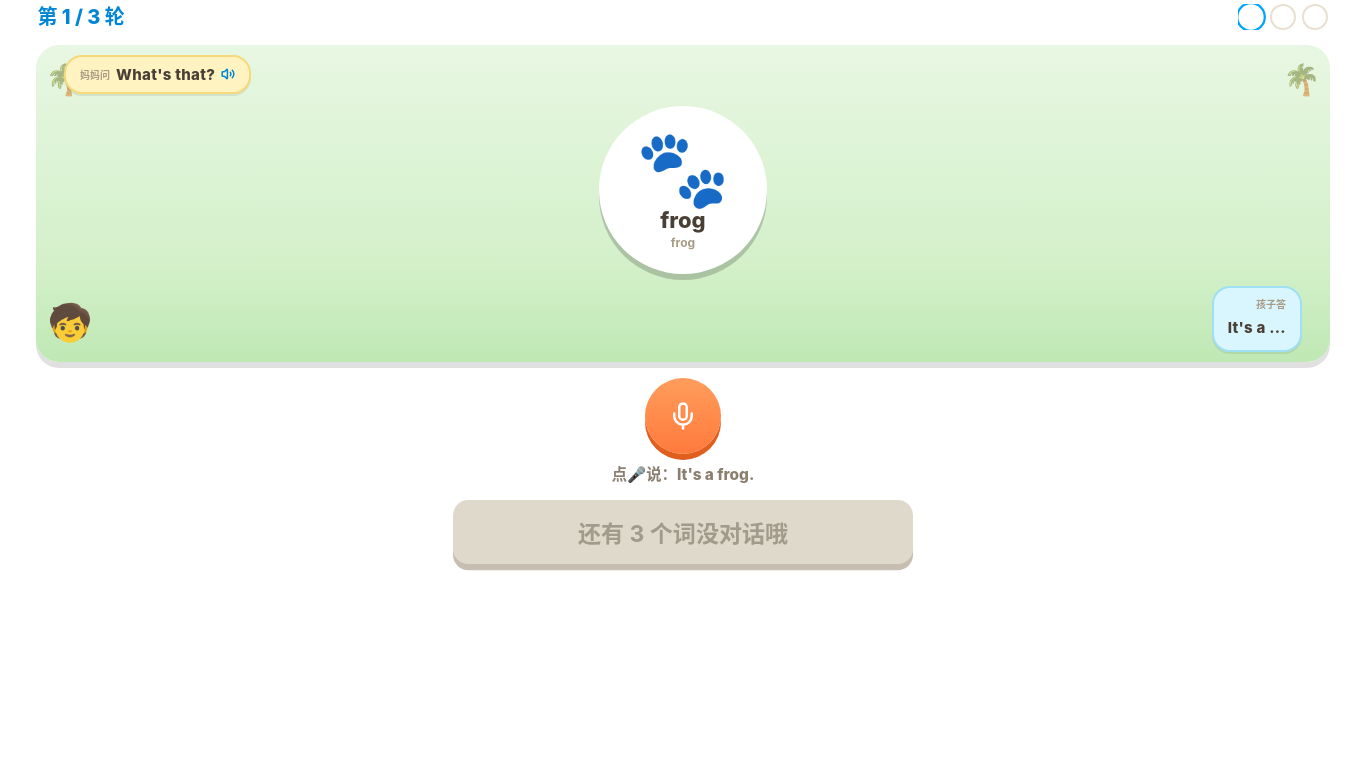
Scenario: LearnStage dialog 亲子口语对话卡（l10）· 逐轮对话 + 录音 › 家长判定「再试一次」→ 回录音按钮，轮次不变
Click the button with class "mic-btn".
click(683, 416)  # box [645,378,721,454]
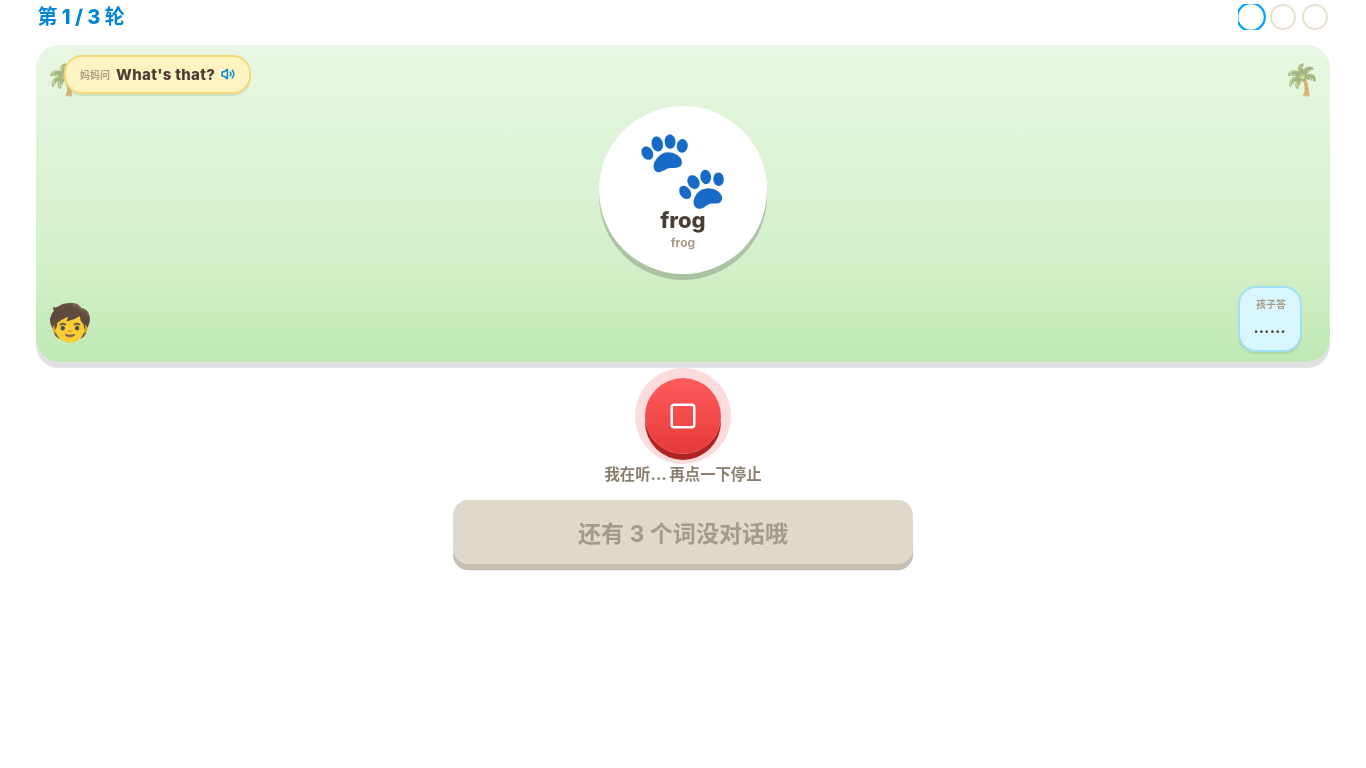
Click the button with class "mic-btn".
click(683, 416)  # box [645,378,721,454]
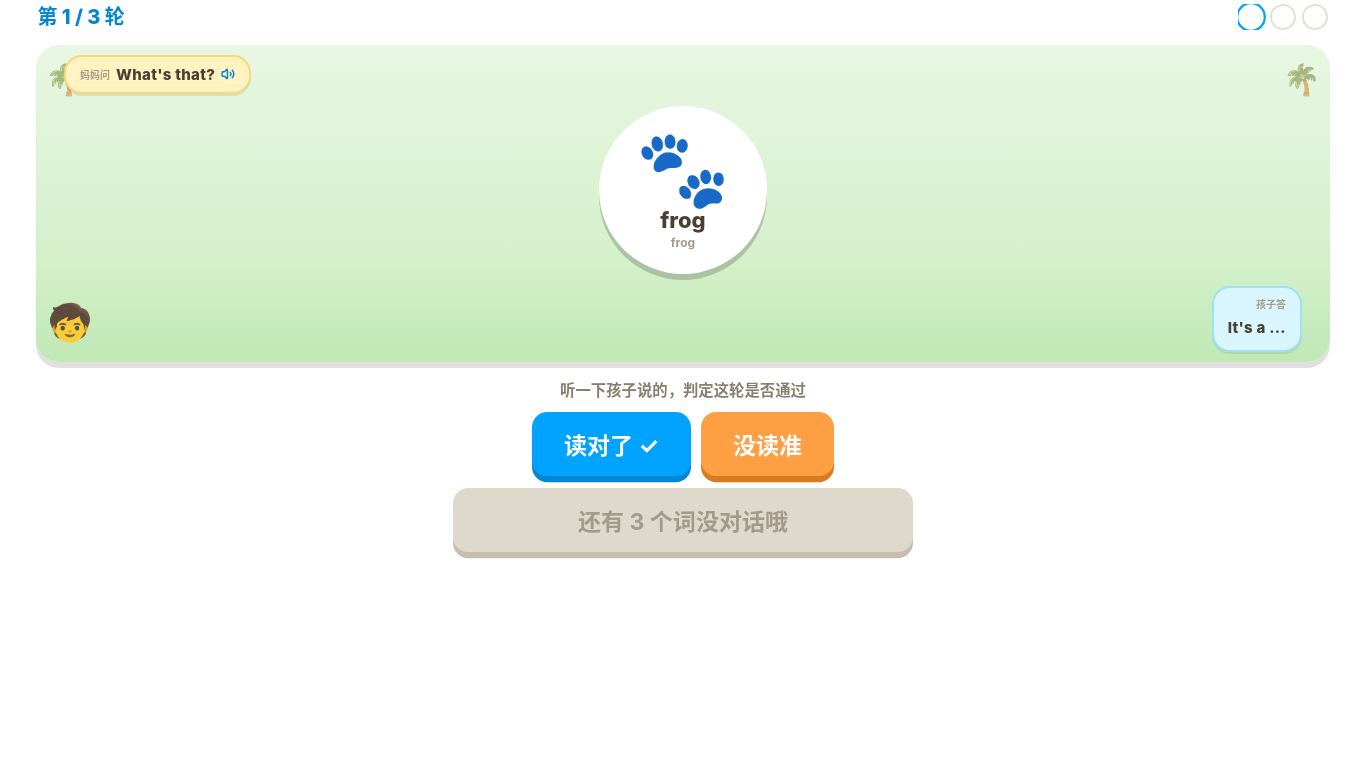
Click the button with class "k-btn-orange".
click(767, 444)  # box [701,412,834,476]
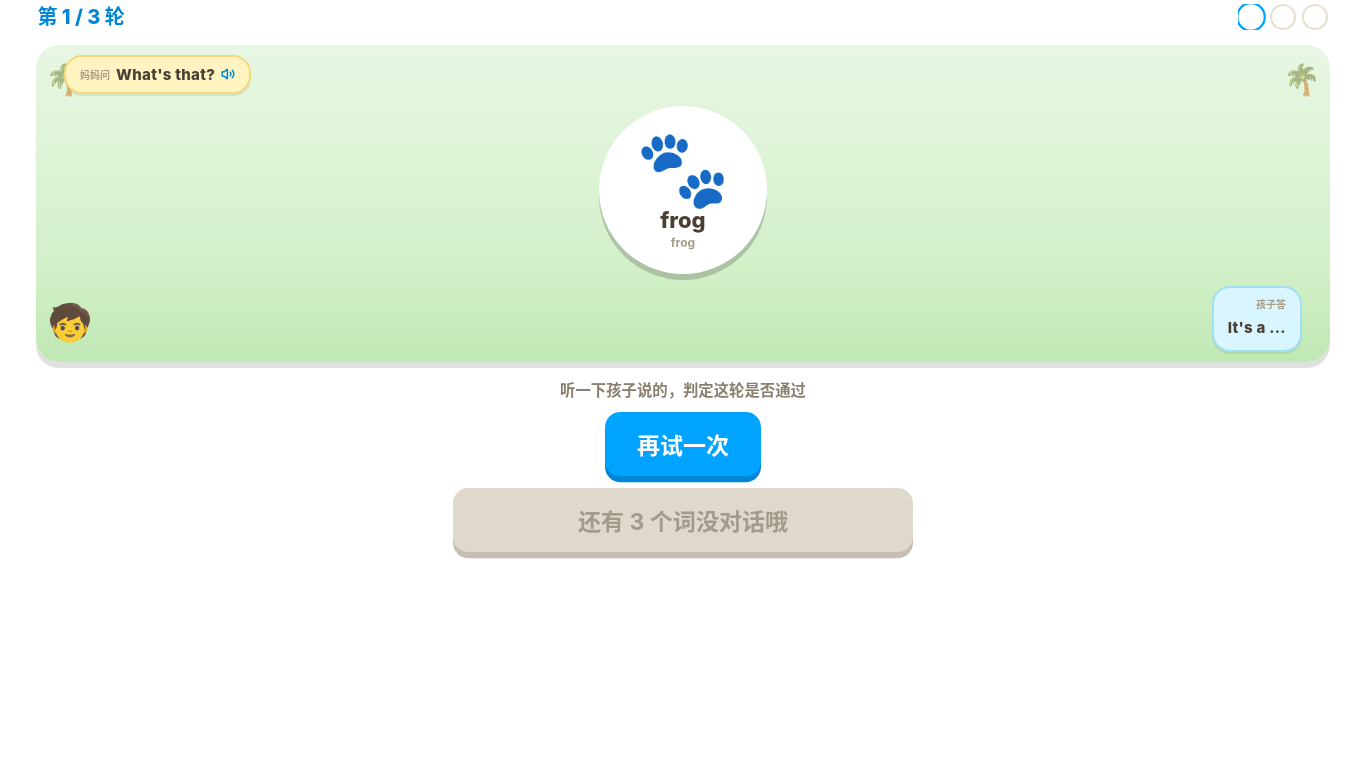
Expected: the button with class "k-btn-green" reads "再试一次"
Click the button with class "k-btn-green" showing "再试一次".
click(683, 444)  # box [605,412,761,476]
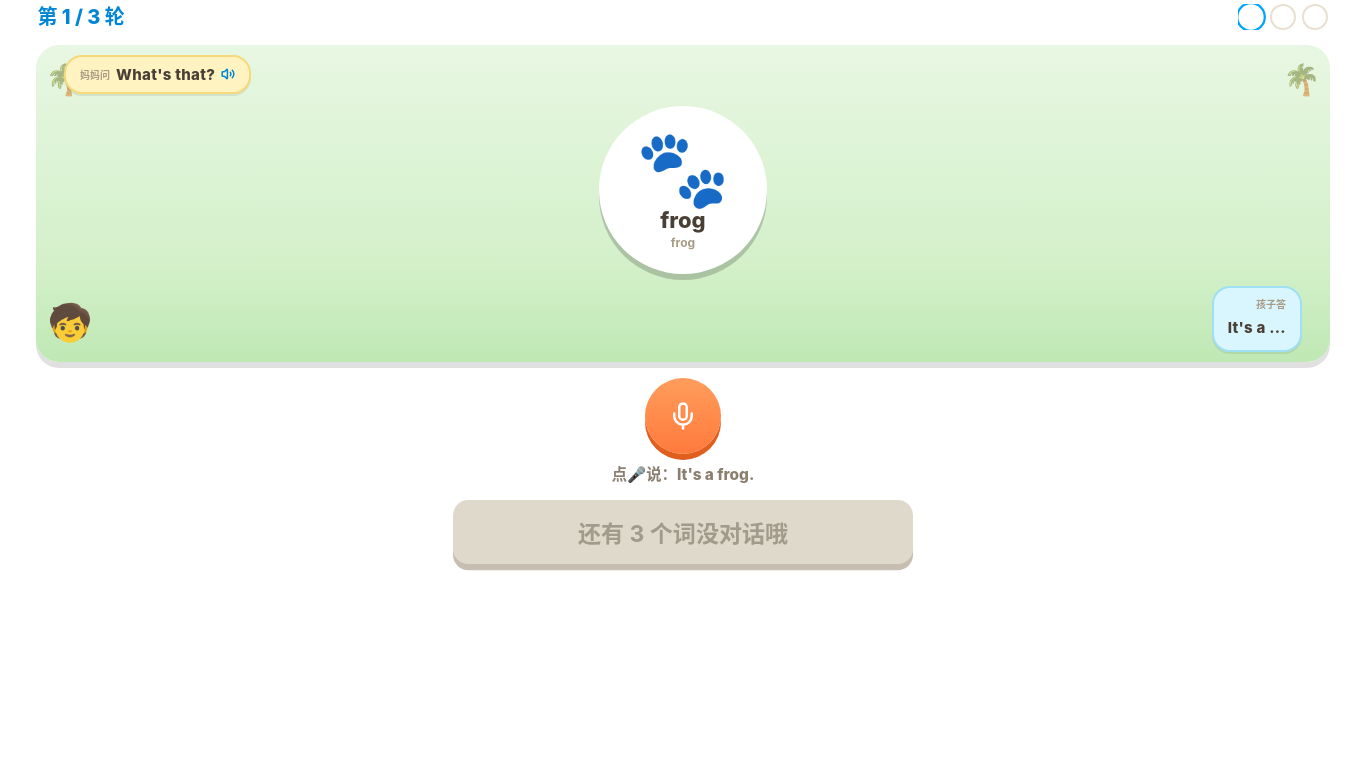
Expected: the text with class "dlg-round" reads "第 1 / 3 轮", [38,5,125,29]
Expected: the button with class "mic-btn" is shown, [645,378,721,454]
